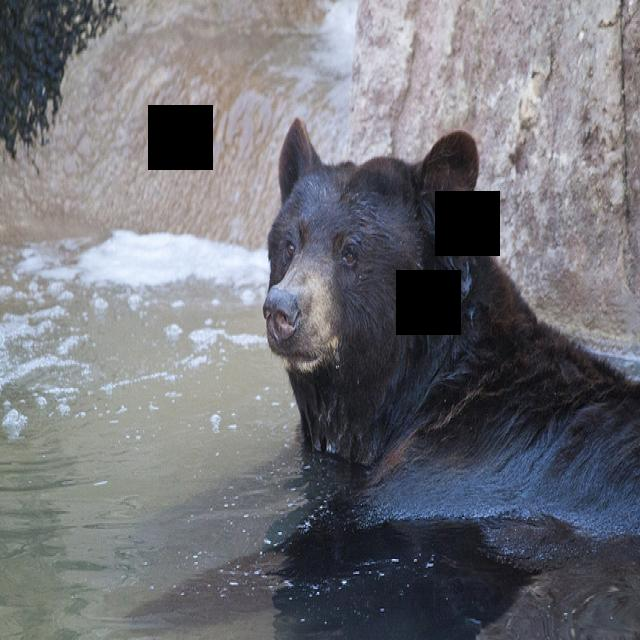Bear: (238, 117, 640, 640)
